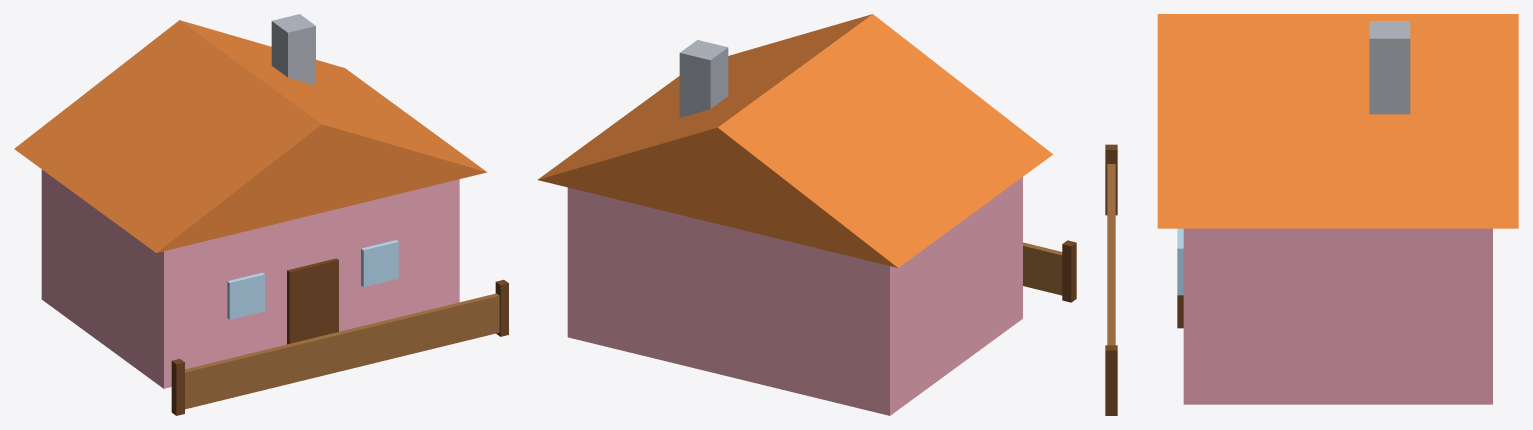
Rendered from b_family.glb.
3 views of the same model, side by side, from view 1: azimuth 30°, elevation 25°; view 2: azimuth 150°, elevation 25°; view 3: azimuth 270°, elevation 25° (orthographic). The views are drawn at different scales.
Visible parts, largest first — view 1: Roof, Walls, Fence, Door, Chimney, Window-1, Window1, Post, Post.001; view 2: Roof, Walls, Chimney, Fence, Post; view 3: Roof, Walls, Chimney, Fence, Post.001, Post, Window1.
Boxes of the visible parts, x1,y1,x2,y2 form: Roof: (14,20,486,252); Walls: (41,169,459,388); Fence: (185,293,499,409); Door: (287,258,338,344); Chimney: (271,14,315,85); Window-1: (227,272,264,319); Window1: (361,240,398,287); Post: (171,359,184,415); Post.001: (495,279,508,336); Roof: (537,14,1052,267); Walls: (567,177,1022,415); Chimney: (679,40,728,117); Fence: (1023,242,1062,295); Post: (1062,240,1076,302); Roof: (1157,14,1518,228); Walls: (1183,228,1492,404); Chimney: (1369,21,1410,114); Fence: (1107,164,1115,345); Post.001: (1105,345,1117,415); Post: (1105,144,1117,215); Window1: (1177,228,1183,295).
Bounding box in the file's own units: 4.72 × 3.45 × 4.01.
